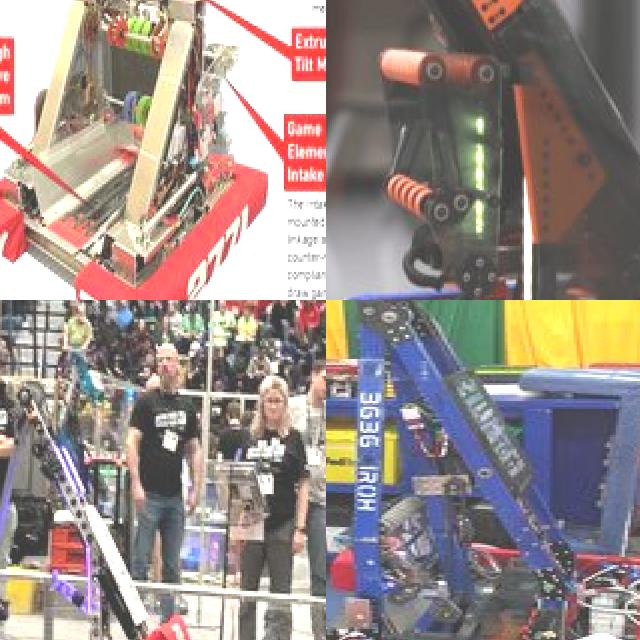FRC-Robots: (326, 300, 640, 640), (326, 0, 640, 300), (0, 0, 281, 300), (0, 379, 205, 640)
